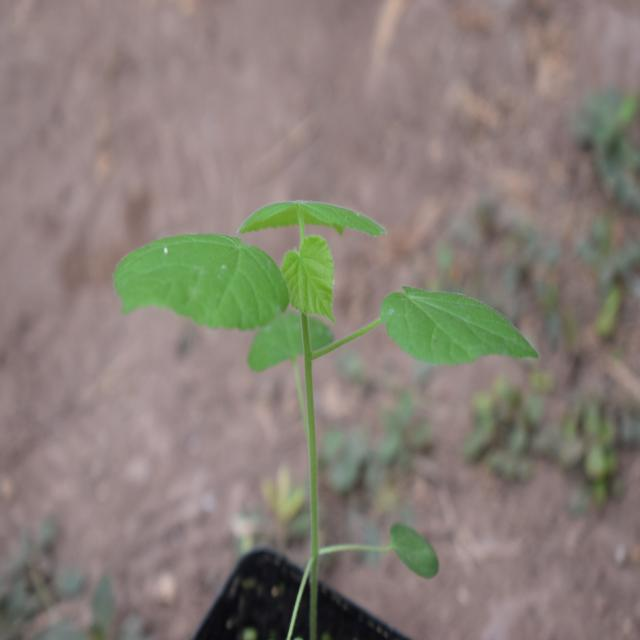abutilon theophrasti: (107, 172, 516, 404)
